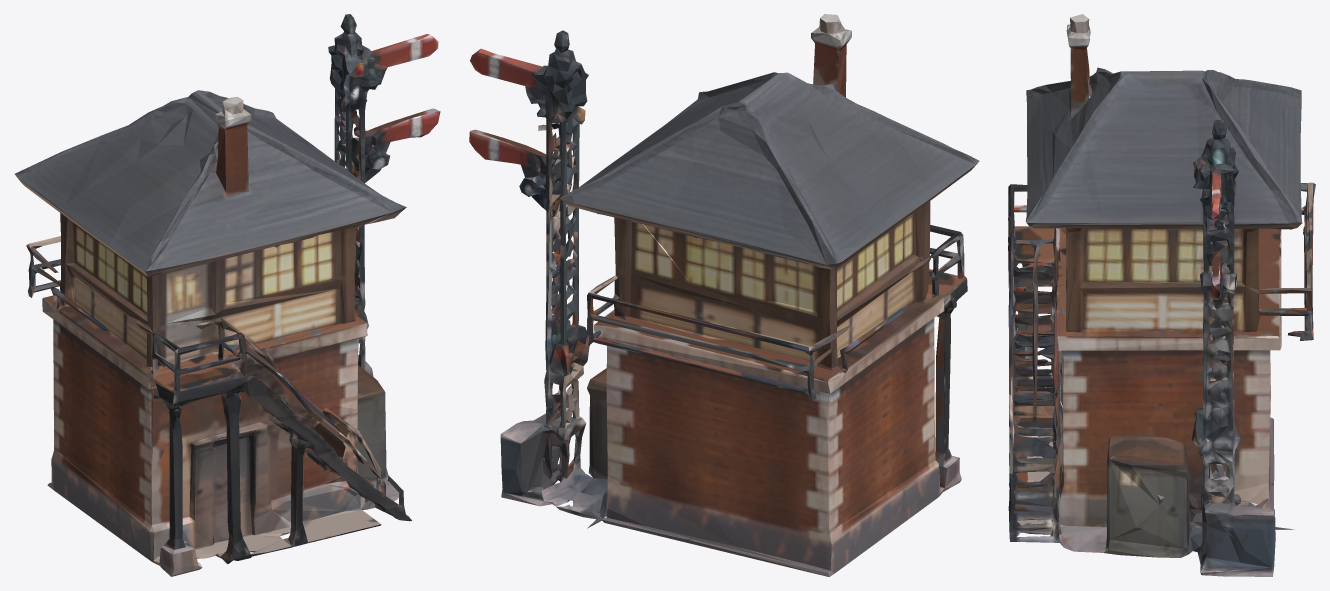
The model's file is war_signal_tower_1117.glb.
3 views of the same model, side by side, from view 1: azimuth 30°, elevation 25°; view 2: azimuth 150°, elevation 25°; view 3: azimuth 270°, elevation 25° (orthographic). The views are drawn at different scales.
Visible parts, largest first — view 1: tmp4vm3c8ct.ply; view 2: tmp4vm3c8ct.ply; view 3: tmp4vm3c8ct.ply.
Part boxes in pixels (box(x1,y1,x2,y2)): tmp4vm3c8ct.ply: box(15, 14, 440, 576); tmp4vm3c8ct.ply: box(469, 14, 979, 576); tmp4vm3c8ct.ply: box(1008, 14, 1315, 576).
Bounding box in the file's own units: 1.86 × 1.99 × 1.23.
1 material, 1 textured.
